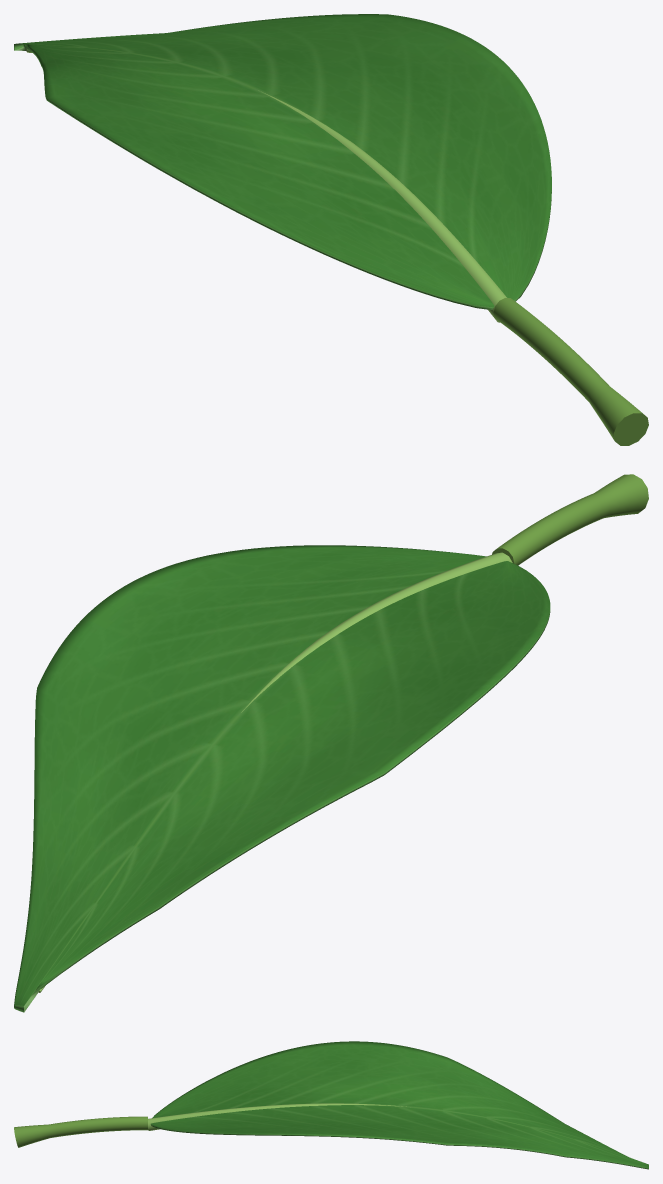
Rendered from 02_leaf.glb.
3 views of the same model, one above another, from view 1: azimuth 30°, elevation 25°; view 2: azimuth 150°, elevation 25°; view 3: azimuth 270°, elevation 25° (orthographic). The views are drawn at different scales.
Visible parts, largest first — view 1: Leaf_Blade, Leaf_Stalk, Leaf_Midrib; view 2: Leaf_Blade, Leaf_Stalk, Leaf_Midrib; view 3: Leaf_Blade, Leaf_Stalk, Leaf_Midrib.
Boxes of the visible parts, box(x1,y1,x2,y2) form: Leaf_Blade: box(14, 14, 551, 309); Leaf_Stalk: box(493, 298, 648, 445); Leaf_Midrib: box(26, 49, 506, 322); Leaf_Blade: box(14, 545, 550, 1012); Leaf_Stalk: box(492, 474, 648, 565); Leaf_Midrib: box(38, 552, 512, 992); Leaf_Blade: box(150, 1041, 648, 1169); Leaf_Stalk: box(14, 1116, 147, 1147); Leaf_Midrib: box(148, 1103, 406, 1130).
Bounding box in the file's own units: 0.72 × 0.2879 × 2.03.
Materials: 4 (2 with a texture image).
